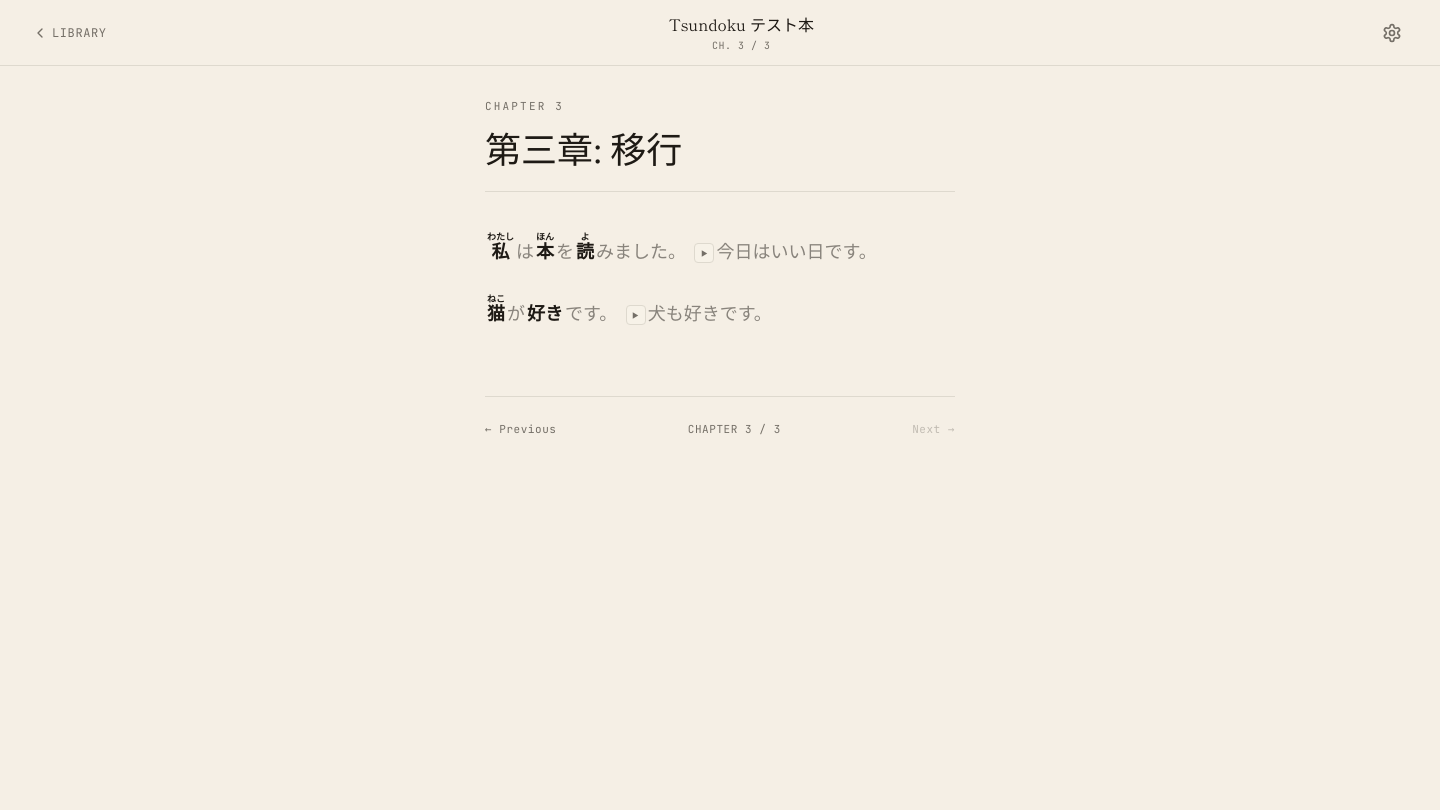
Test: Reader › sentence help › opens an inline panel beneath the sentence with the translation when activated
The width and height of the screenshot is (1440, 810).
Click the button named "translation for p0-s0".
click(704, 253)  # box left=694, top=243, right=714, bottom=263
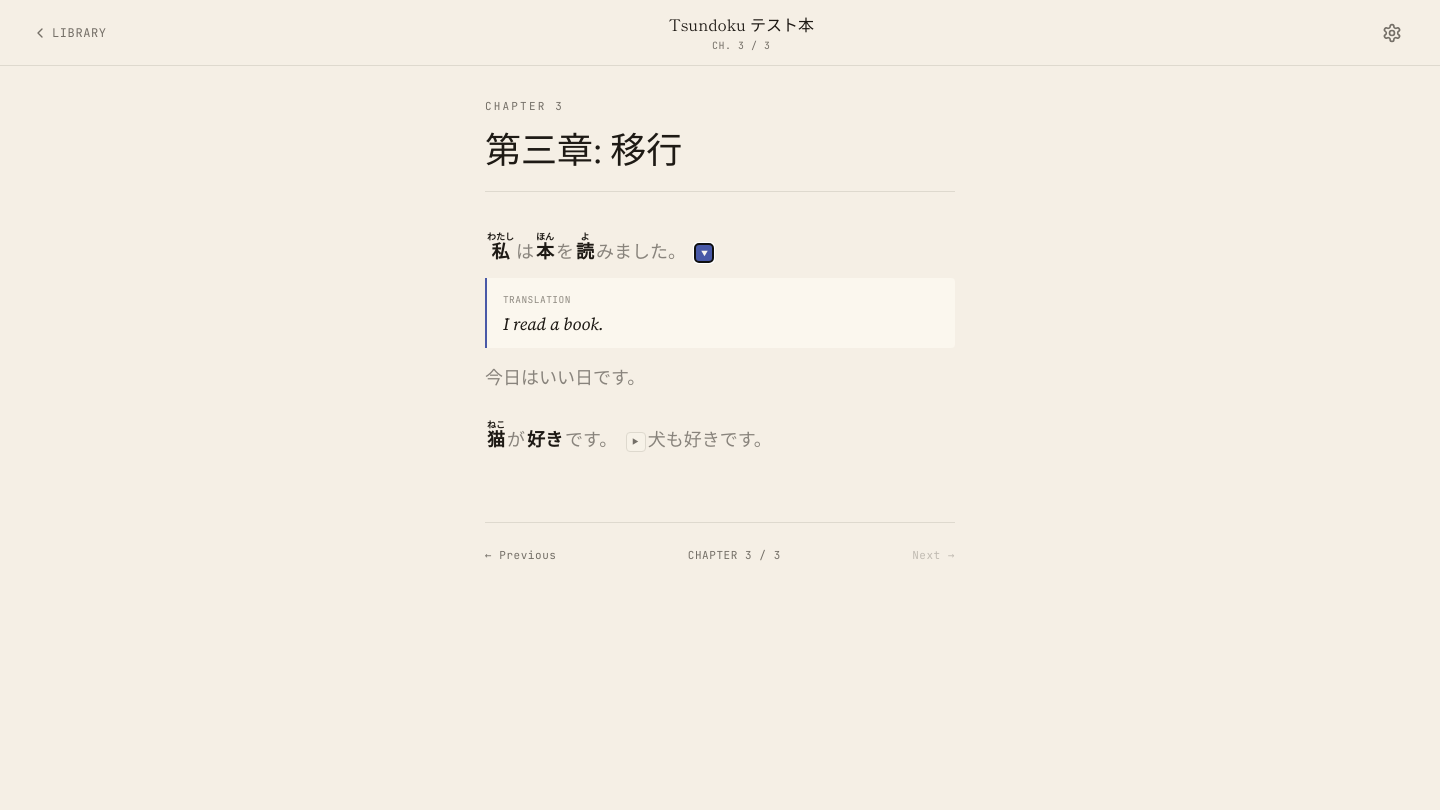
Check: the element named "sentence help for p0-s0" shows "I read a book.", box left=503, top=312, right=604, bottom=336
